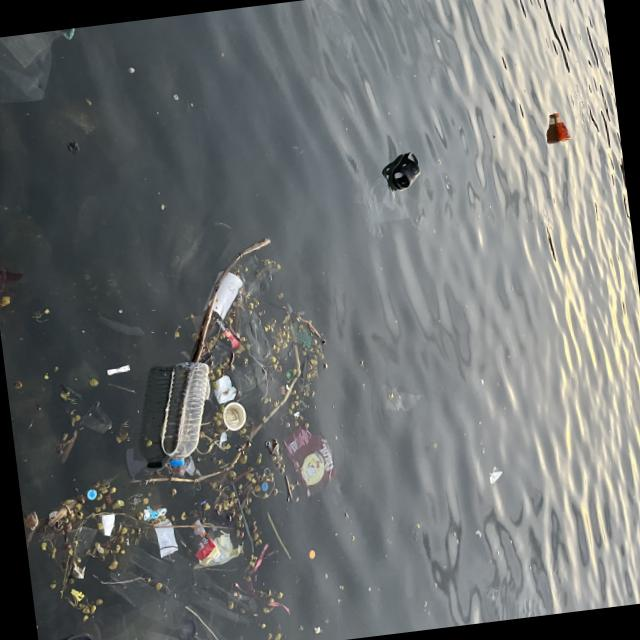plastic: (149, 360, 219, 468), (552, 110, 570, 142)
plastic bottle: (101, 533, 258, 640), (0, 27, 83, 108), (282, 422, 340, 499), (357, 174, 413, 238), (50, 524, 100, 570), (202, 268, 246, 320), (192, 528, 244, 572), (378, 380, 422, 414), (79, 402, 114, 436), (154, 518, 179, 557), (211, 376, 236, 404), (221, 401, 246, 428), (140, 503, 168, 521), (100, 514, 118, 536), (486, 466, 504, 484), (104, 364, 130, 376)
unknow: (226, 301, 281, 402), (244, 540, 290, 619), (387, 152, 420, 192), (122, 448, 146, 480), (36, 629, 99, 640), (292, 320, 313, 348)
